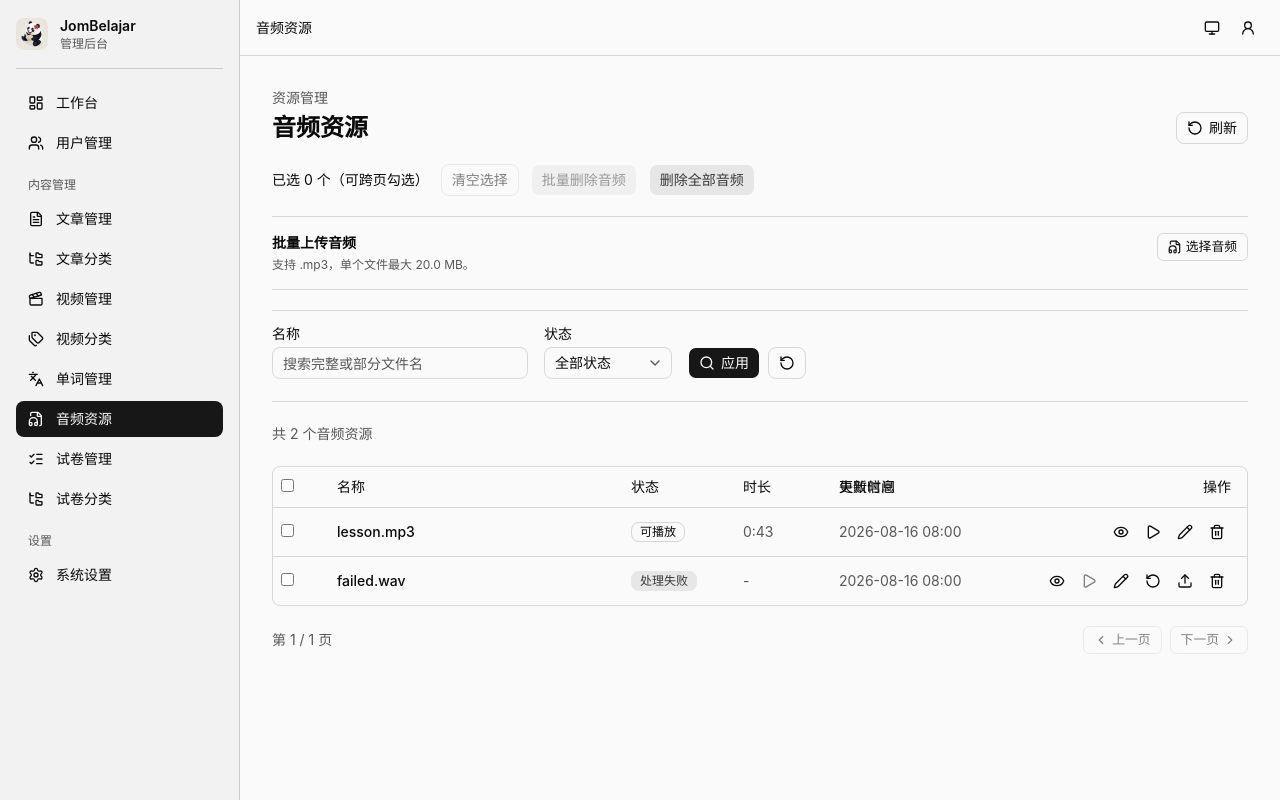
Test case: AudioLibrary › opens the playback dialog immediately while the URL is loading
Click the button named "试听 lesson.mp3". click: [1153, 532]
box: [1139,518,1167,546]
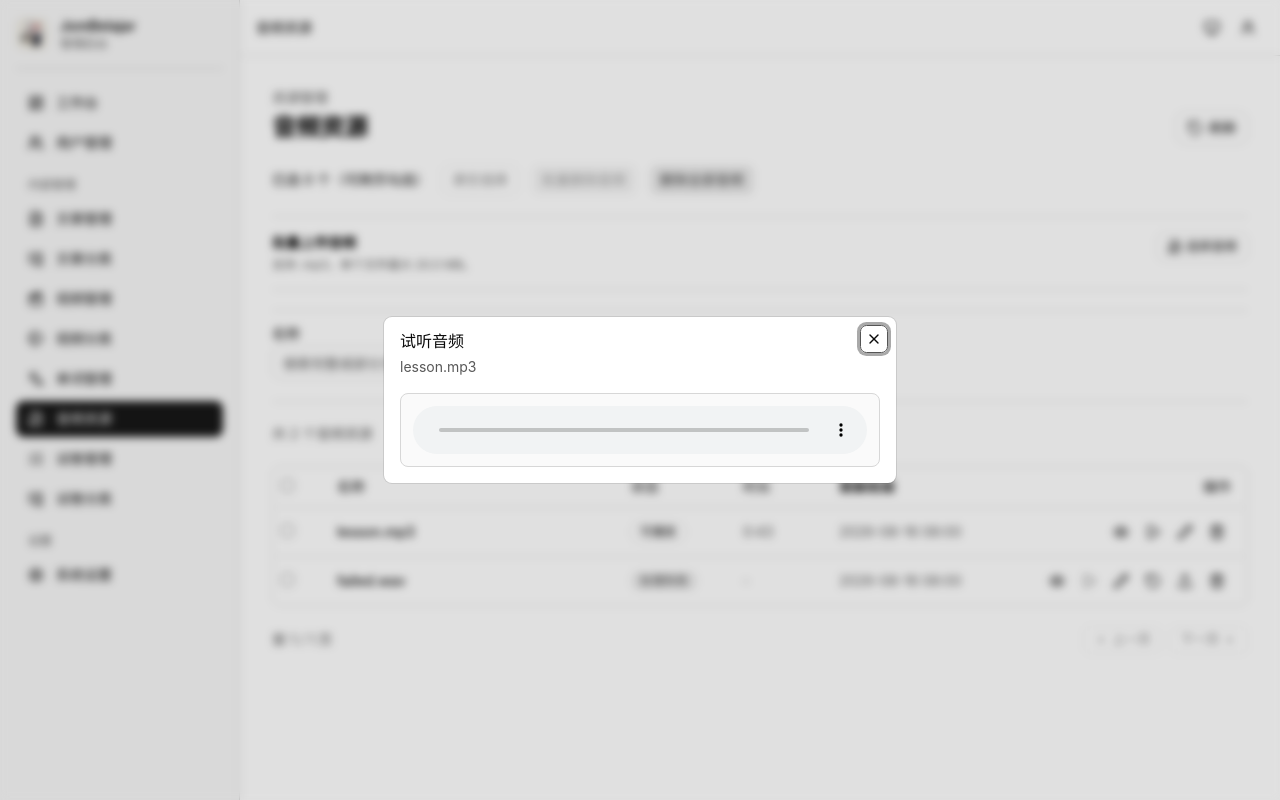
Expected: the heading "试听音频" is shown, [400,331,464,351]
Expected: the element named "正在加载 lesson.mp3" below "试听音频" is shown, [400,393,880,467]
Expected: the element named "正在试听 lesson.mp3" is shown, [413,406,867,454]
